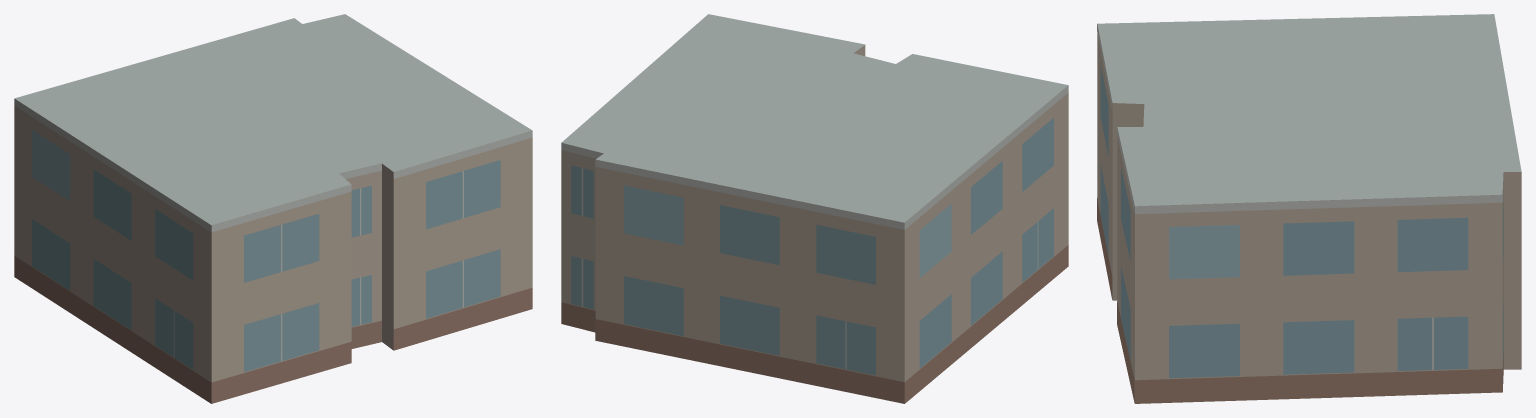
Rendered from survey-upis-33010742.glb.
3 views of the same model, side by side, from view 1: azimuth 30°, elevation 25°; view 2: azimuth 150°, elevation 25°; view 3: azimuth 270°, elevation 25° (orthographic). The views are drawn at different scales.
Visible parts, largest first — view 1: survey-upis-33010742.tmp; view 2: survey-upis-33010742.tmp; view 3: survey-upis-33010742.tmp.
Boxes of the visible parts, left/top/right/bottom form: survey-upis-33010742.tmp: left=14, top=14, right=532, bottom=403; survey-upis-33010742.tmp: left=561, top=14, right=1068, bottom=403; survey-upis-33010742.tmp: left=1097, top=14, right=1521, bottom=403.
Bounding box in the file's own units: 12.73 × 6.1 × 11.88.
